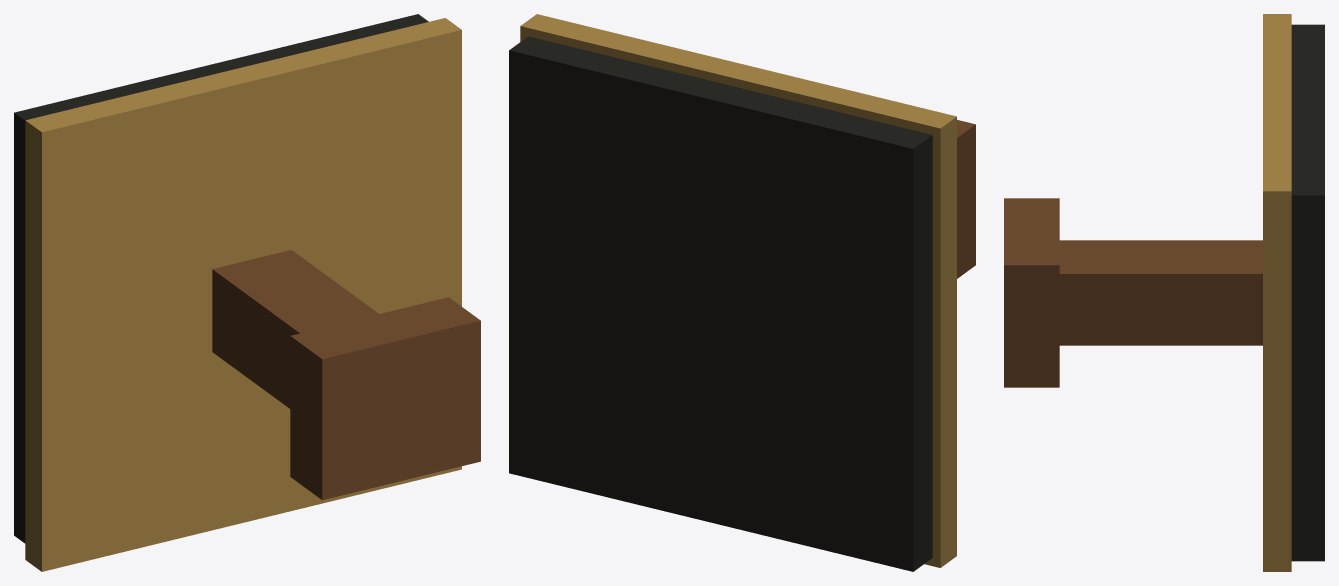
Rendered from stamp.obj.
3 views of the same model, side by side, from view 1: azimuth 30°, elevation 25°; view 2: azimuth 150°, elevation 25°; view 3: azimuth 270°, elevation 25° (orthographic). The views are drawn at different scales.
Bounding box in the file's own units: 2.65 × 2.65 × 2.03.
1 material, 1 textured.
